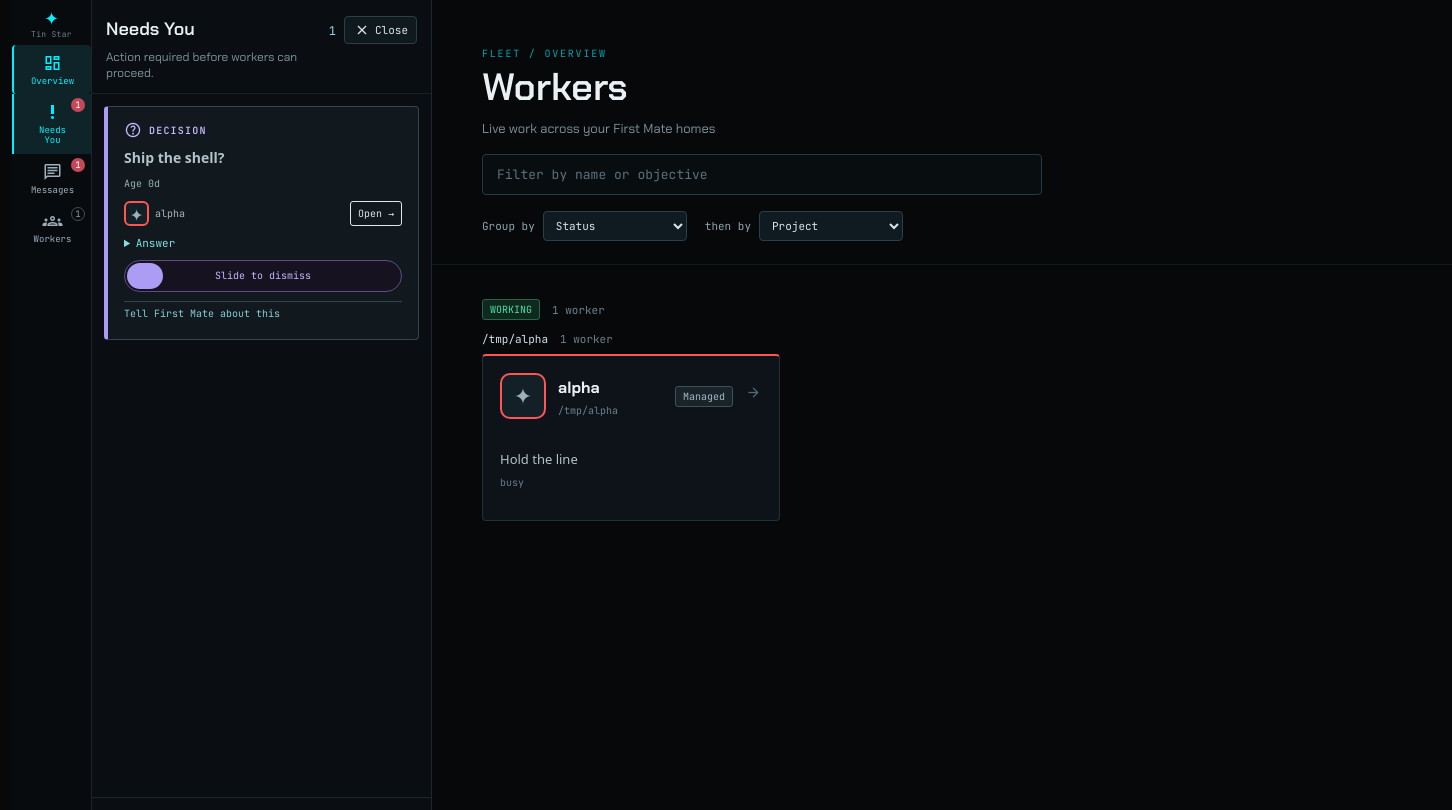
cockpit shell › switches panels without leaving the overview, then opens and collapses a worker
Expected: the text "Ship the shell?" is shown, [124,148,224,167]
Expected: the heading "Workers" is shown, [482,62,628,112]
Click the button "Messages 1".
click(52, 178)  # box [12,154,91,203]
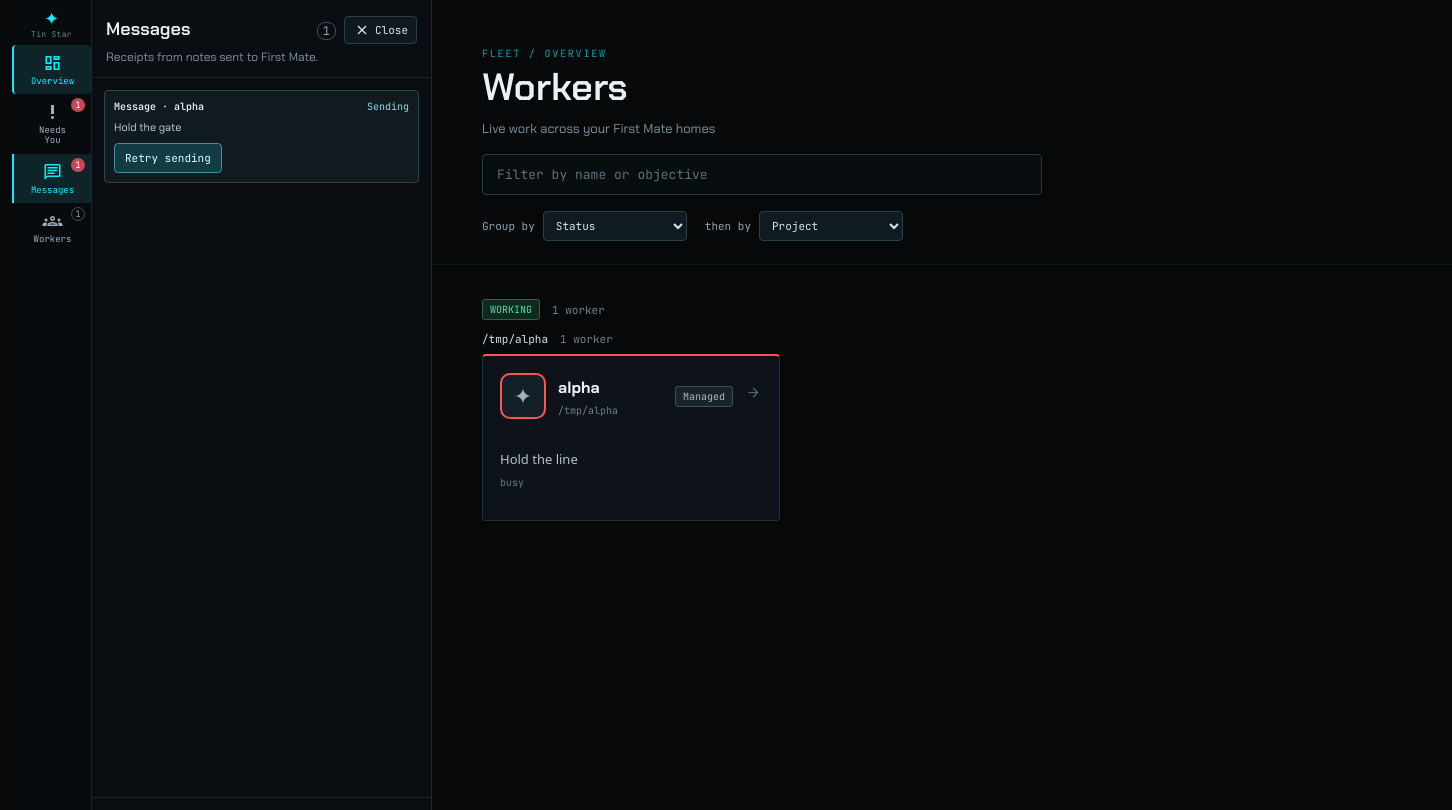
Expected: the heading "Workers" is shown, [482,62,628,112]
Now the text "Hold the gate" is shown, box [114,120,181,134]
Now the button "Retry sending" is shown, box [114,143,222,173]
Click the button "Workers 1".
click(52, 228)  # box [12,203,91,252]
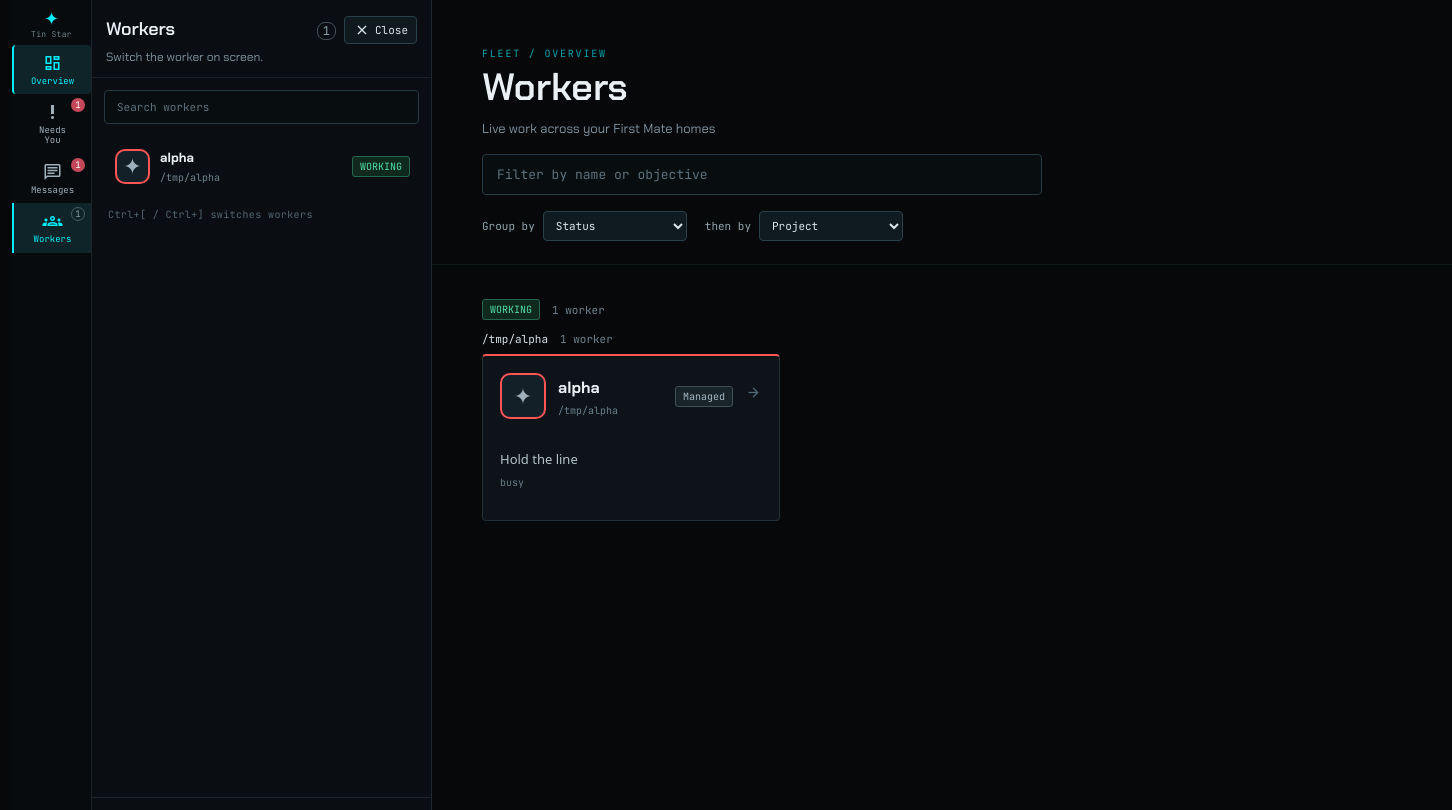
Now the field named "Jump to worker" is shown, box [104,90,419,124]
Now the button with class "cockpit-worker-button" is shown
Click the button with class "cockpit-worker-button".
click(132, 166)  # box [104,136,419,196]
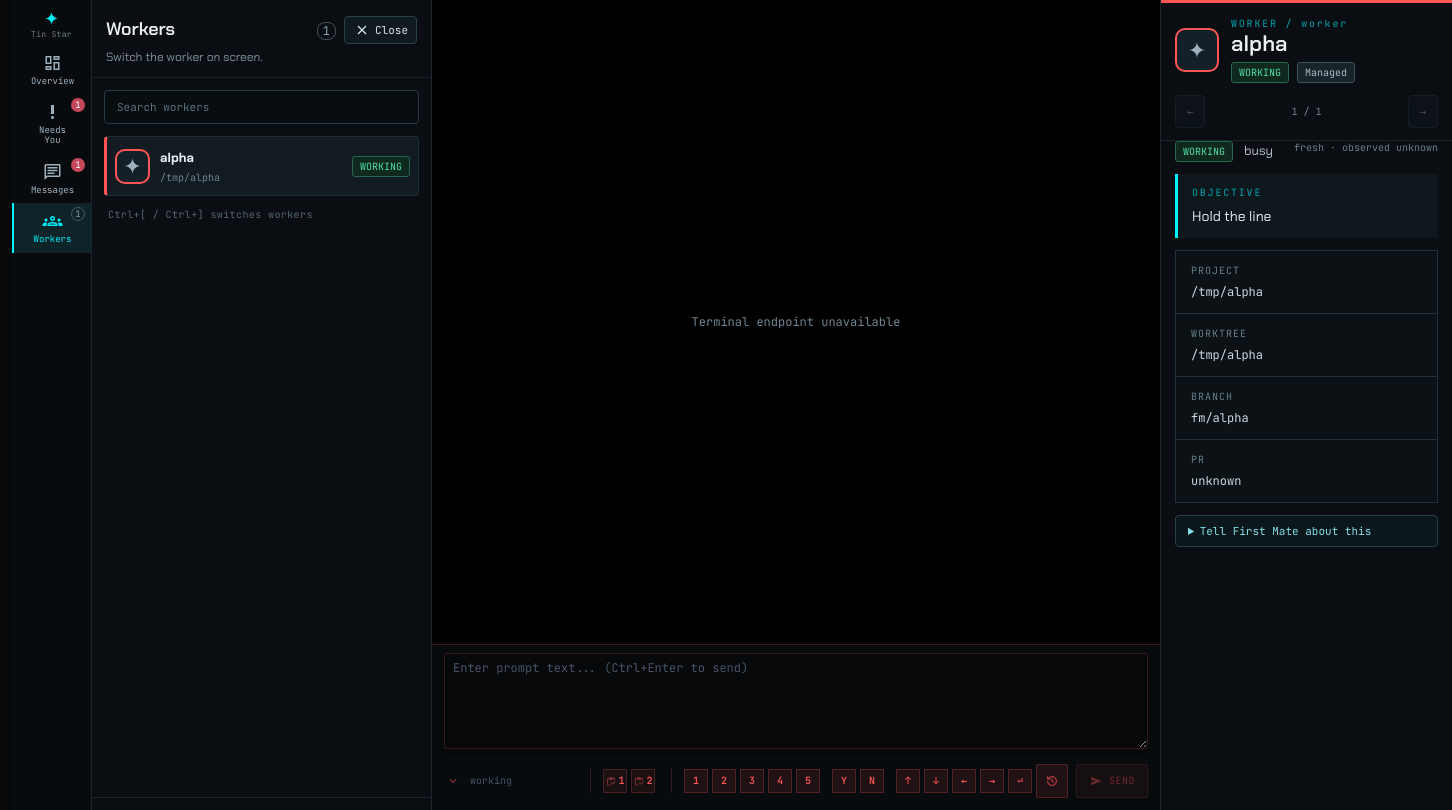
Now the heading "alpha" is shown, box [1231,29,1288,58]
Click the button with aria-label "Close panel".
click(380, 30)  # box [344,16,417,44]
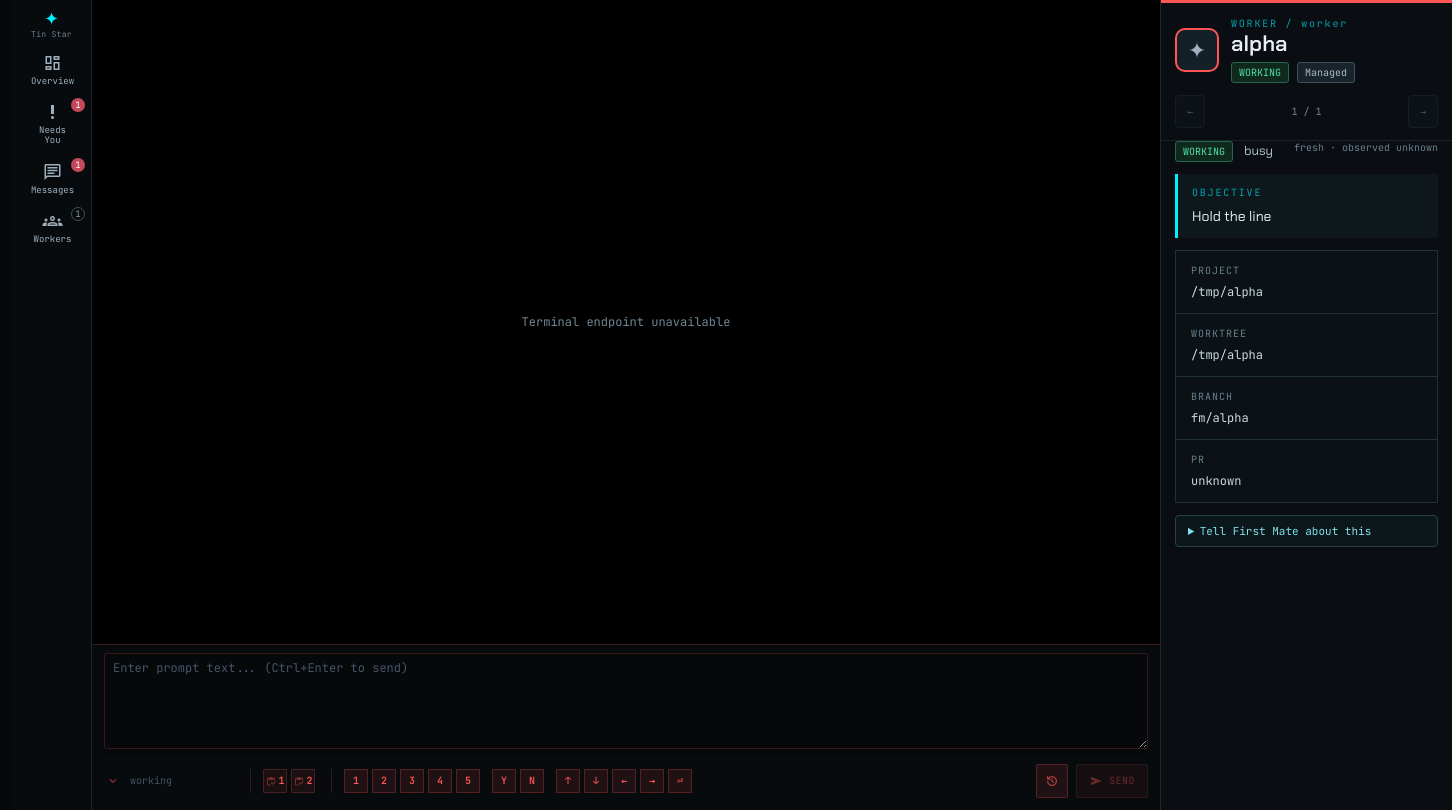
Now the heading "alpha" is shown, box [1231,29,1288,58]
Click the button "Overview".
click(52, 69)  # box [12,45,91,94]
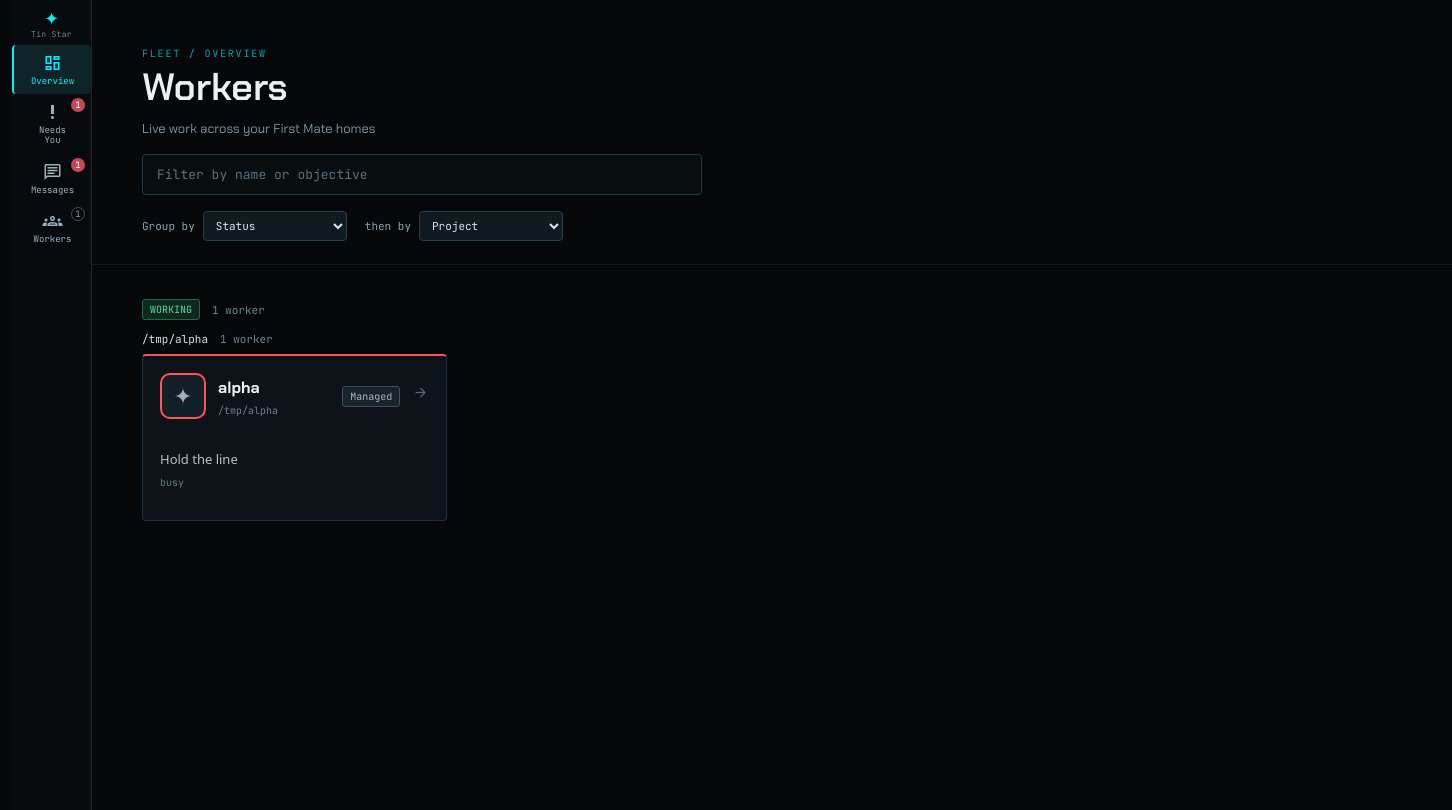
Now the heading "Workers" is shown, box [142,62,288,112]
